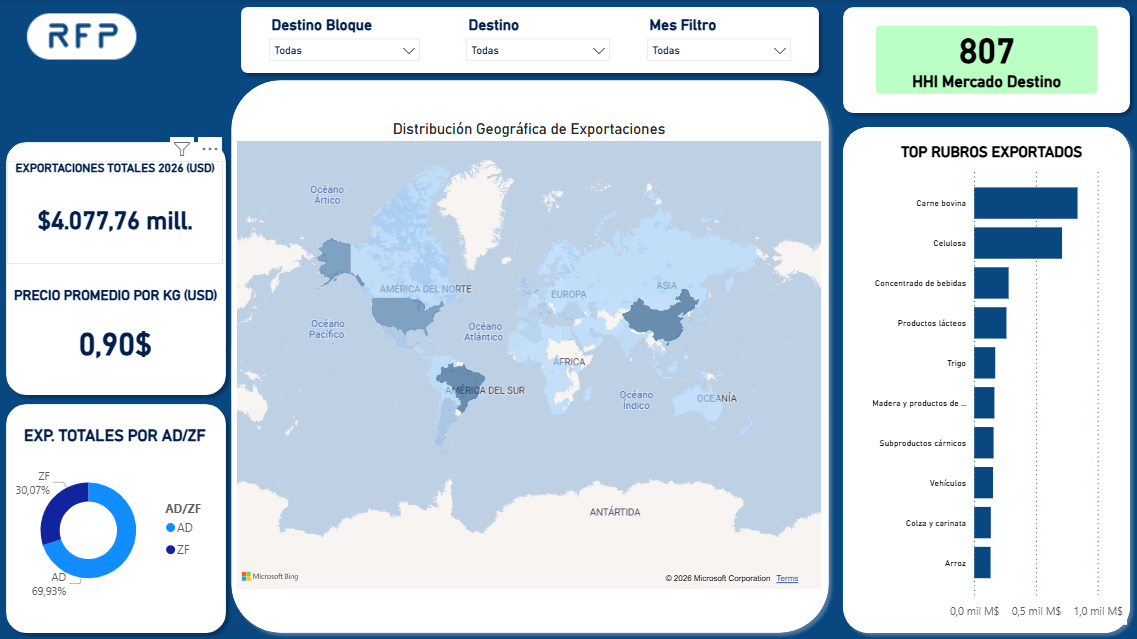

The dashboard page shown, as its layout file describes it:
{"tool":"powerbi","page":{"name":"Visión General","canvas":[1280,720],"ordinal":0},"visuals":[{"type":"shape","box":[941.6,0,338.6,135],"z":0},{"type":"shape","box":[264.4,0,666,90],"z":1000},{"type":"shape","box":[0,151.9,263.2,300.4],"z":2000},{"type":"shape","box":[253.1,82.1,688.5,637.9],"z":3000},{"type":"shape","box":[941.2,135,338.8,557.5],"z":4000},{"type":"slicer","fields":{"Values":["UyXXI.Destino Bloque "]},"box":[293.6,12.4,190.1,63],"z":5000},{"type":"slicer","fields":{"Values":["UyXXI.Mes Filtro"]},"box":[718.9,12.4,182.2,63],"z":6000},{"type":"cardVisual","title":"EXPORTACIONES TOTALES 2026 (USD)","fields":{"Data":["_Medidas.Exportaciones Totales USD"]},"box":[9,181.1,243,115.9],"z":7000},{"type":"cardVisual","title":"PRECIO PROMEDIO POR KG (USD)","fields":{"Data":["_Medidas.Precio Promedio por KG"]},"box":[11.2,322.9,239.6,104.6],"z":8000},{"type":"filledMap","title":"Distribución Geográfica de Exportaciones","fields":{"Category":["UyXXI.Destino_ISO3"]},"box":[263.2,135,666,533.2],"z":9000},{"type":"clusteredBarChart","title":"TOP RUBROS EXPORTADOS","fields":{"Category":["UyXXI.Clasificación Producto"],"Y":["_Medidas.Exportaciones Totales USD"]},"box":[963.8,161.2,305,507.5],"z":10000},{"type":"shape","box":[0,446.6,263.2,273.4],"z":11000},{"type":"donutChart","title":"EXP. TOTALES POR AD/ZF","fields":{"Category":["UyXXI.AD/ZF"],"Y":["_Medidas.Exportaciones Totales USD"]},"box":[9,479.2,243,213.8],"z":12000},{"type":"slicer","fields":{"Values":["UyXXI.Destino"]},"box":[515.2,12.4,182.2,66.4],"z":13000},{"type":"cardVisual","fields":{"Data":["_Medidas.HHI Mercado Destino"]},"box":[969.8,12.4,283.5,110.2],"z":14000},{"type":"image","box":[0,0,185.6,82.1],"z":15000},{"type":"textbox","box":[987.5,692.5,287.5,27.5],"z":16000}]}

Visuals, with their boxes in screenshot pixels (x1, y1, x2, y2), scaled from the page's 1280x720 canvas onto the 1137x639 screenshot:
shape: crop(836, 0, 1136, 120)
shape: crop(235, 0, 826, 80)
shape: crop(0, 135, 234, 401)
shape: crop(225, 73, 836, 638)
shape: crop(836, 120, 1136, 615)
slicer - UyXXI.Destino Bloque : crop(261, 11, 430, 67)
slicer - UyXXI.Mes Filtro: crop(639, 11, 800, 67)
"EXPORTACIONES TOTALES 2026 (USD)" cardVisual: crop(8, 161, 224, 264)
"PRECIO PROMEDIO POR KG (USD)" cardVisual: crop(10, 287, 223, 379)
"Distribución Geográfica de Exportaciones" filledMap: crop(234, 120, 825, 593)
"TOP RUBROS EXPORTADOS" clusteredBarChart: crop(856, 143, 1127, 593)
shape: crop(0, 396, 234, 638)
"EXP. TOTALES POR AD/ZF" donutChart: crop(8, 425, 224, 615)
slicer - UyXXI.Destino: crop(458, 11, 619, 70)
cardVisual - _Medidas.HHI Mercado Destino: crop(861, 11, 1113, 109)
image: crop(0, 0, 165, 73)
textbox: crop(877, 615, 1133, 638)
